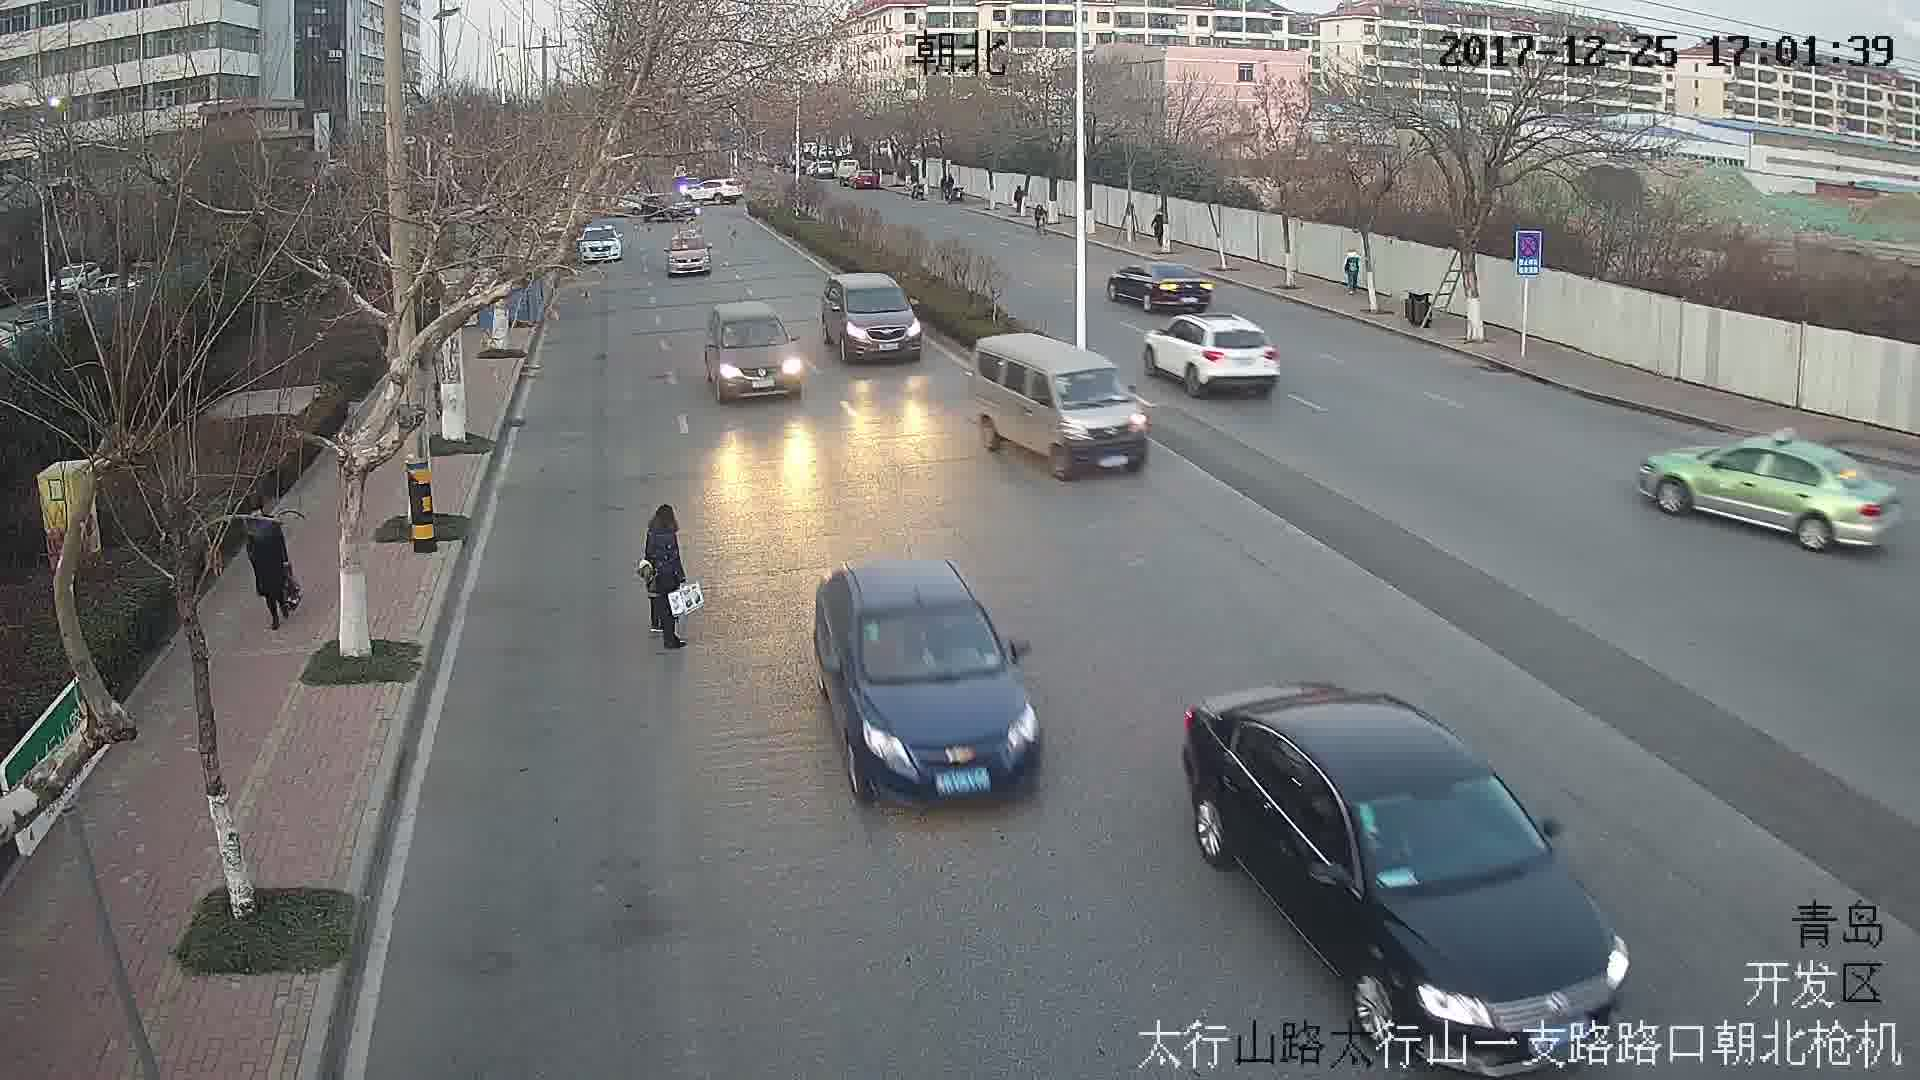car: (1182, 684, 1632, 1067), (821, 564, 1043, 800), (1635, 428, 1902, 559), (970, 332, 1149, 482), (1150, 314, 1282, 399), (823, 270, 927, 370), (707, 303, 802, 400), (1113, 256, 1209, 310), (667, 230, 712, 275), (580, 230, 621, 263)
person: (638, 510, 699, 653), (243, 512, 300, 628), (1345, 248, 1366, 298)
